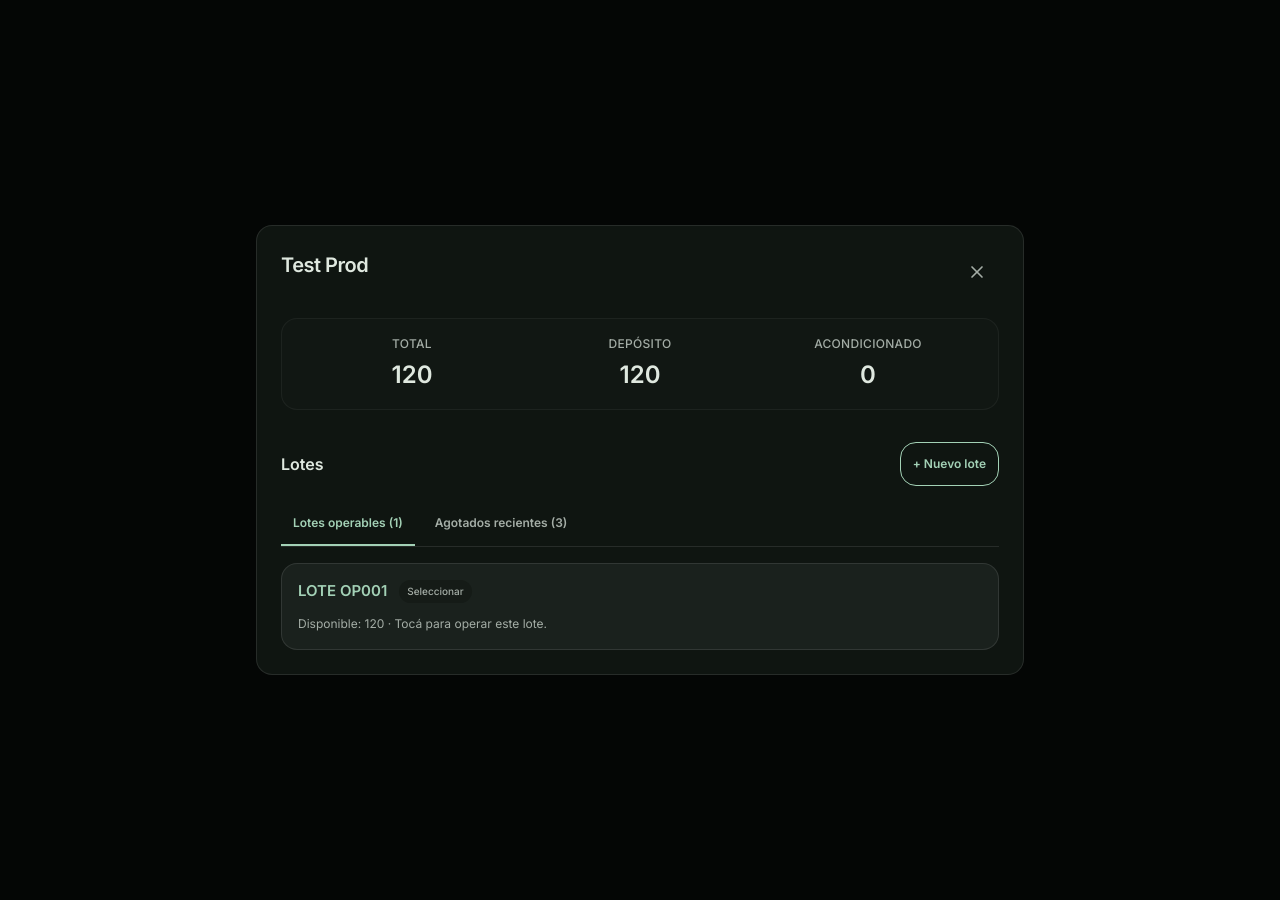
Test: GestionarStockModal › separates operable lots from the three most recent exhausted lots and reveals actions after selection
Expected: the tab "Lotes operables (1)" is shown, left=281, top=502, right=415, bottom=546
Expected: the button "Ingresar" is not shown
Click the button "Seleccionar lote OP001" at (385, 592), box left=298, top=580, right=472, bottom=603
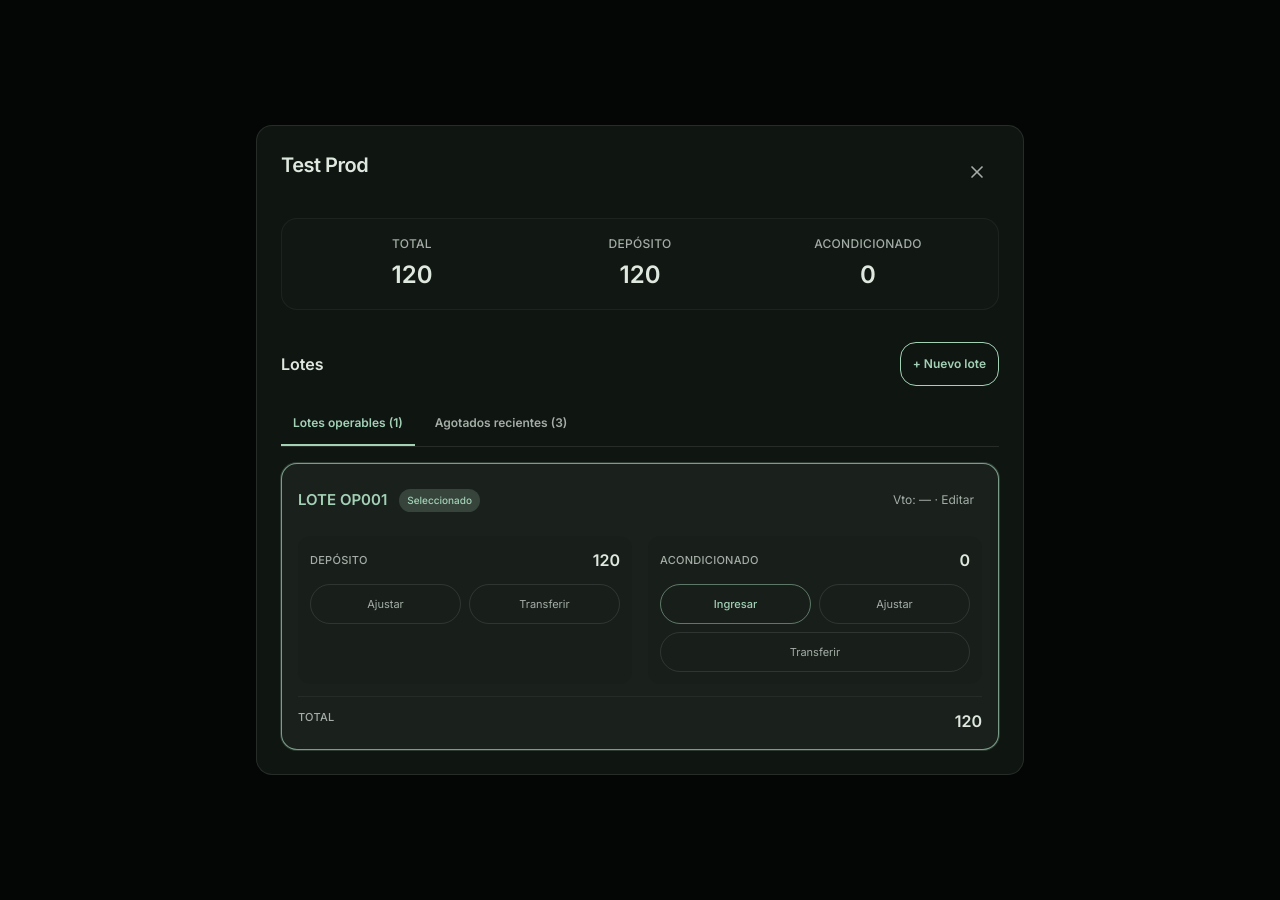
Result: the button "Ingresar" is shown at left=660, top=584, right=811, bottom=624
Click the tab "Agotados recientes (3)" at (501, 424), box left=423, top=402, right=579, bottom=446
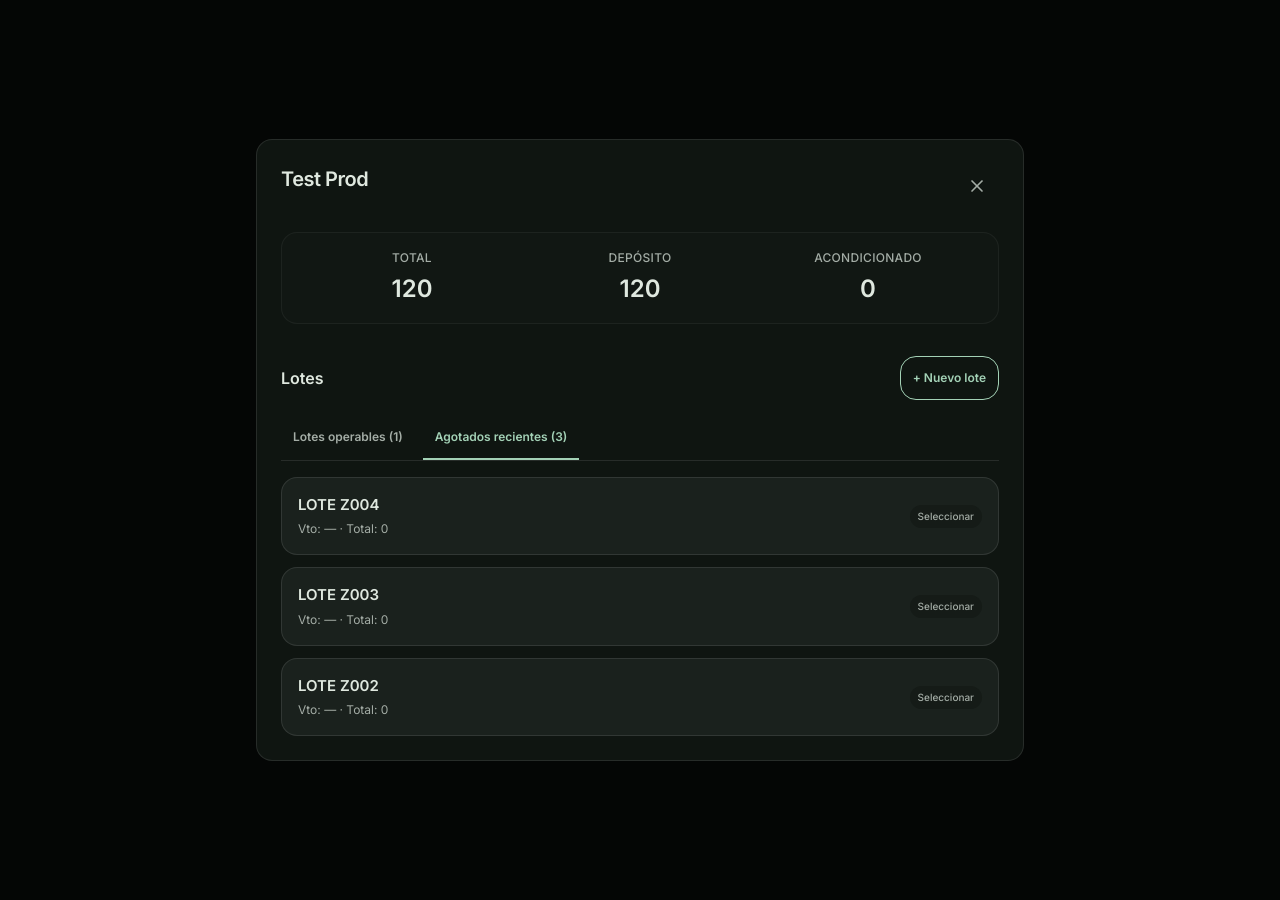
Result: the text "LOTE Z004" is shown at left=298, top=494, right=388, bottom=516
Click the button "Seleccionar lote Z003" at (319, 595), box left=298, top=584, right=982, bottom=629
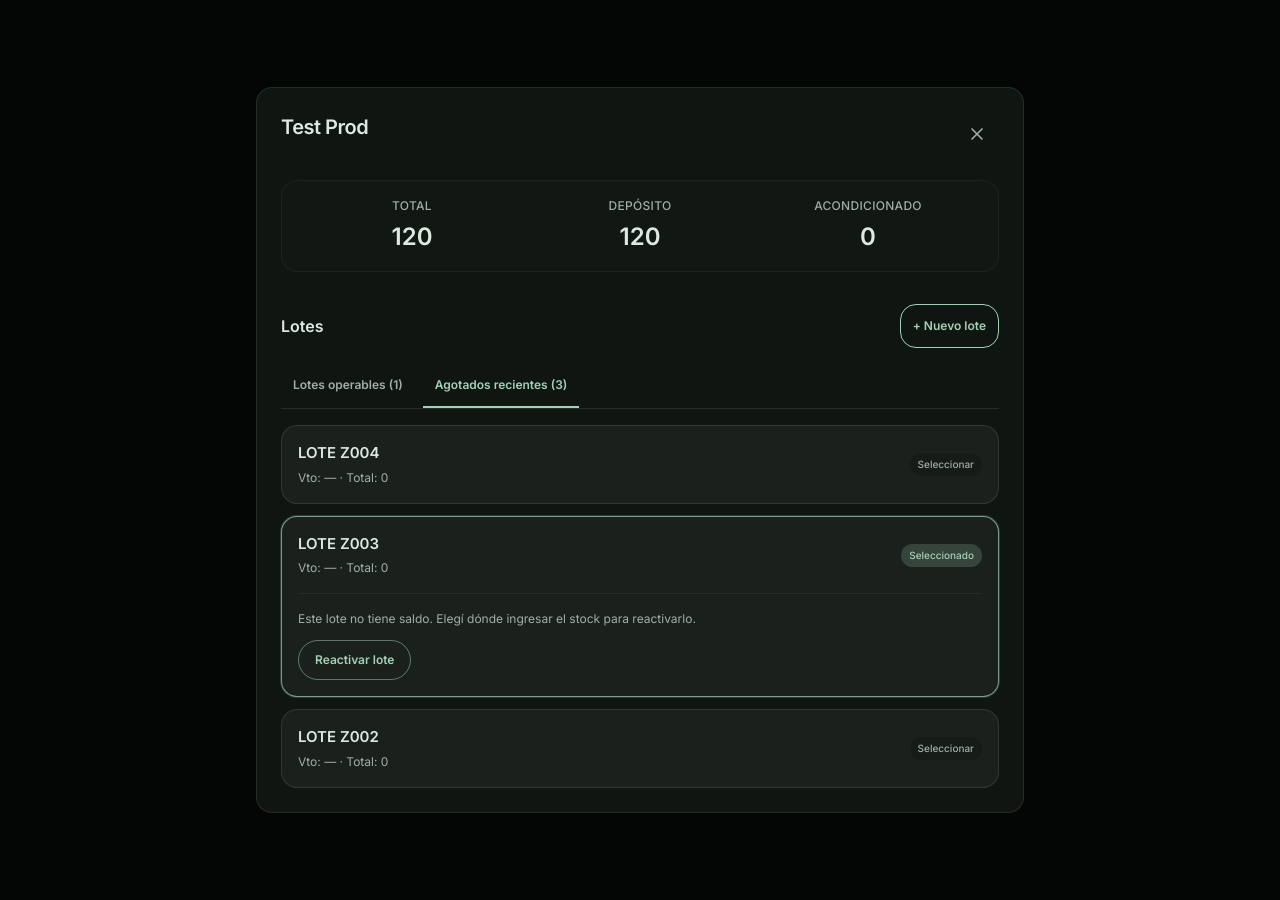
Result: the button with aria-label "Reactivar lote Z003" is shown at left=298, top=640, right=411, bottom=680
